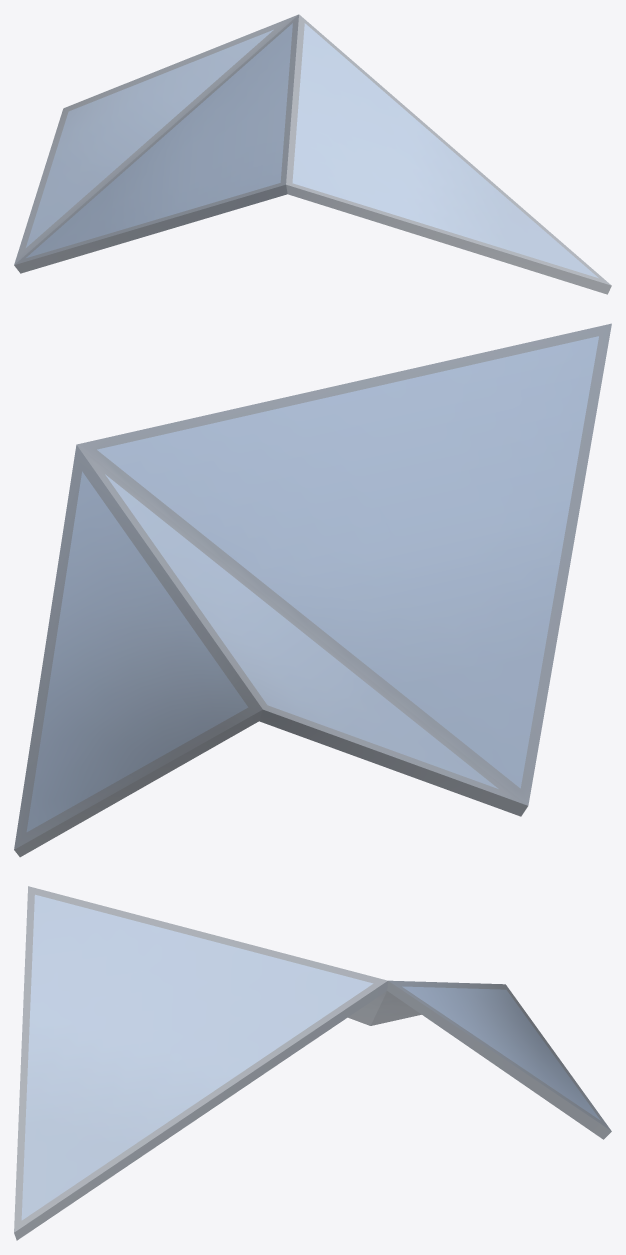
3 views of the same model, one above another, from view 1: azimuth 30°, elevation 25°; view 2: azimuth 150°, elevation 25°; view 3: azimuth 270°, elevation 25° (orthographic). The views are drawn at different scales.
Parts seen in each view (by area): view 1: 70030076431901258; view 2: 70030076431901258; view 3: 70030076431901258.
Boxes of the visible parts, box(x1,y1,x2,y2) form: 70030076431901258: box(14, 14, 611, 294); 70030076431901258: box(14, 323, 611, 857); 70030076431901258: box(14, 886, 611, 1240).
Bounding box in the file's own units: 20.89 × 8.56 × 24.08.
1 material, 1 textured.
